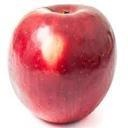apple: (5, 4, 119, 124)
